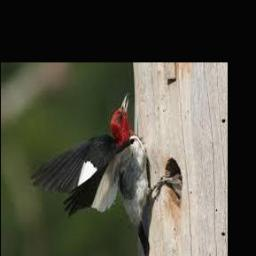Woodpecker: (32, 93, 181, 256)
